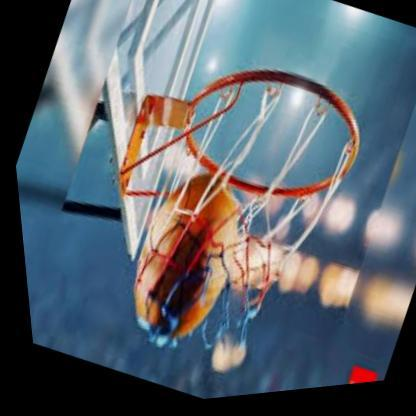basketball: (104, 162, 262, 358)
rim: (155, 34, 383, 240)
